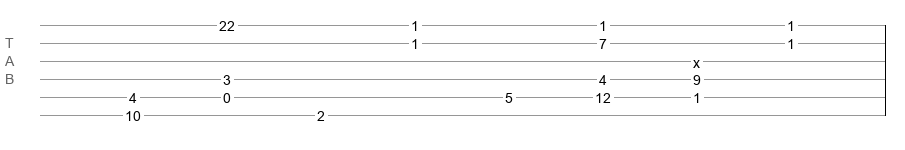0: (223, 90, 231, 100)
1: (411, 36, 419, 46), (411, 18, 419, 28), (599, 18, 607, 28), (693, 90, 701, 100), (787, 36, 795, 46), (787, 18, 795, 28)
10: (125, 108, 141, 118)
12: (595, 90, 611, 100)
2: (317, 108, 325, 118)
22: (219, 18, 235, 28)
3: (223, 72, 231, 82)
4: (129, 90, 137, 100), (599, 72, 607, 82)
5: (505, 90, 513, 100)
7: (599, 36, 607, 46)
9: (693, 72, 701, 82)
x: (693, 55, 700, 63)
